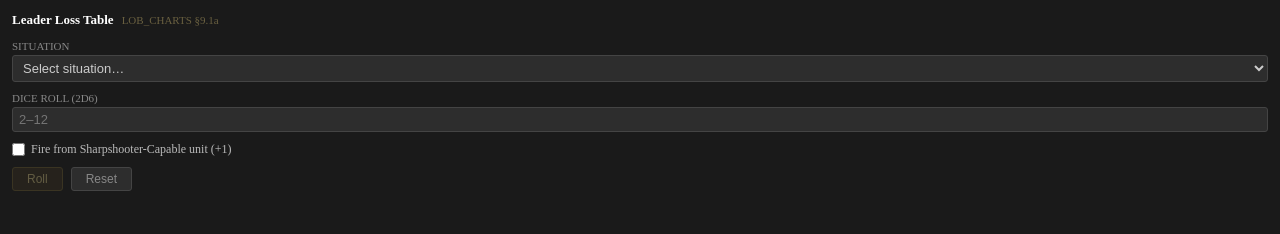
Test case: LeaderLossPanel › displays loading state while POST is in flight
Select "Other Cases" in the dropdown labelled "Situation": (640, 68) [12,55,1268,82]
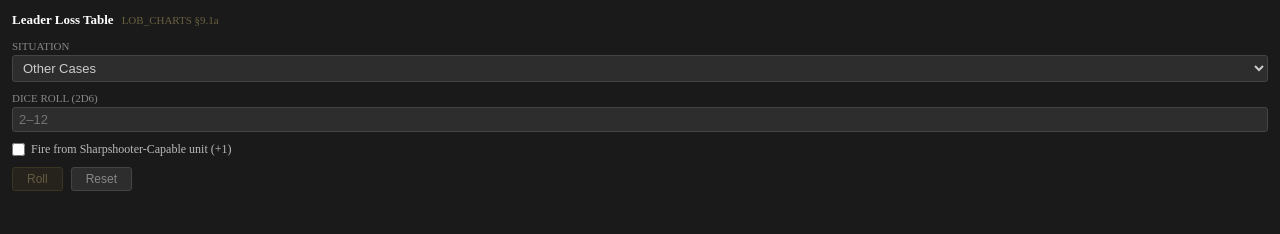
In the number field labelled "Dice Roll (2d6)": (640, 120) [12,107,1268,132], type "11"
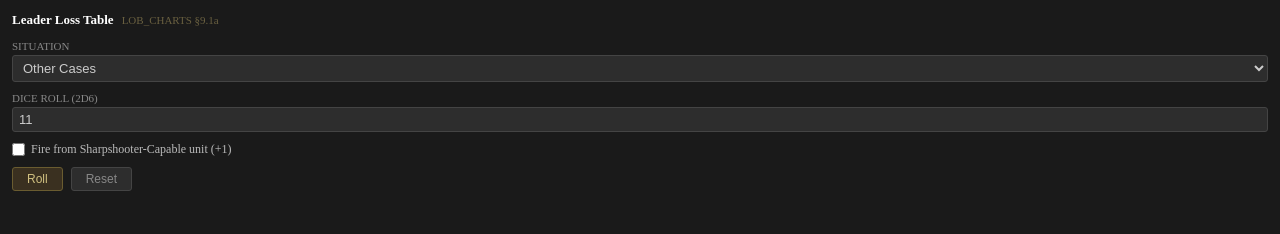
Click the button "Roll": click(37, 179) [12,167,63,191]
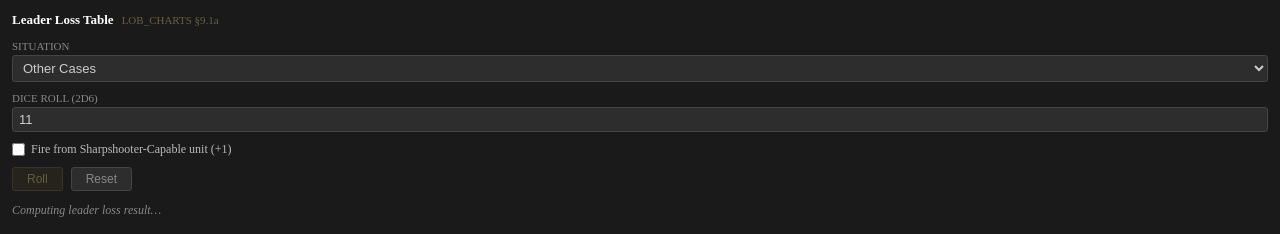
Result: the text "Computing leader loss" is shown at [12,203,161,217]
